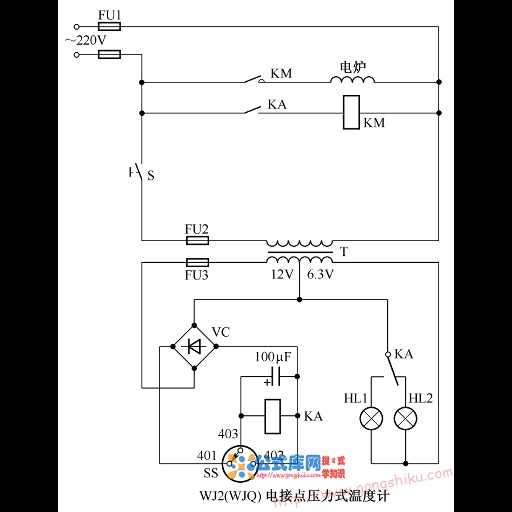firstpolarcapacitor: (262, 366, 284, 387)
fuse: (93, 19, 126, 34), (181, 233, 214, 248), (95, 46, 123, 62), (182, 255, 212, 268)
inductor: (327, 74, 381, 87)
light: (392, 405, 419, 431), (357, 407, 385, 430)
transformer: (262, 238, 334, 266)
